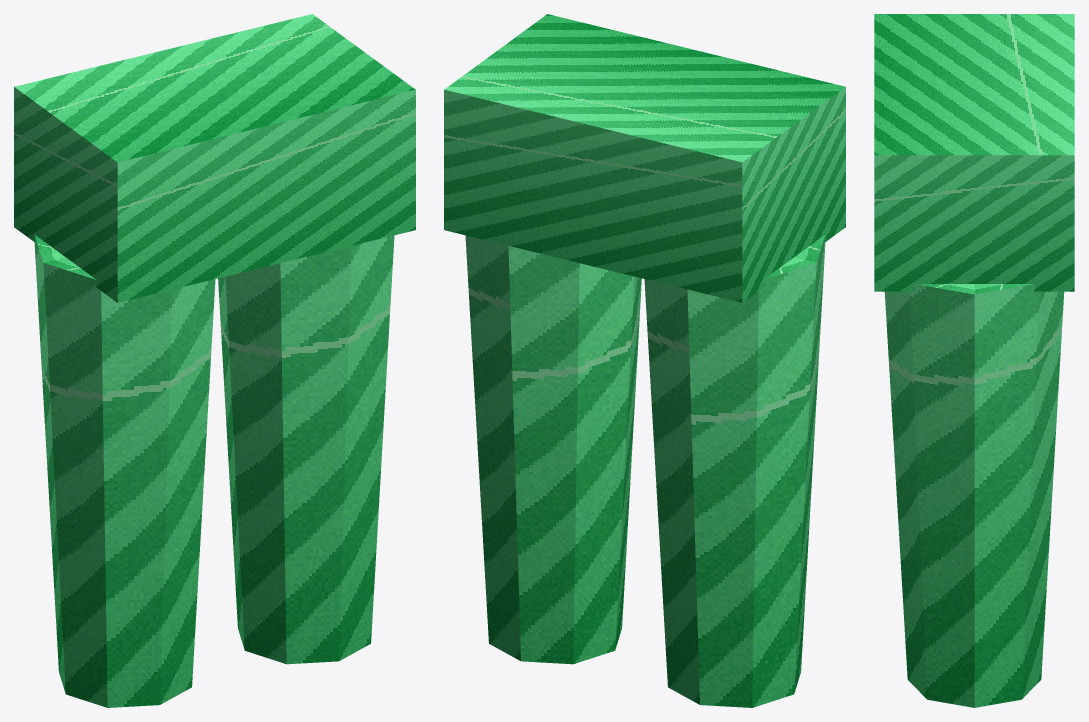
Rendered from calcas_de_esmeralda.glb.
3 renders of one model, left to right at view 1: azimuth 30°, elevation 25°; view 2: azimuth 150°, elevation 25°; view 3: azimuth 270°, elevation 25°, orthographic. The views are drawn at different scales.
Visible parts, largest first — view 1: calcas_de_esmeralda; view 2: calcas_de_esmeralda; view 3: calcas_de_esmeralda.
Boxes of the visible parts, left/top/right/bottom form: calcas_de_esmeralda: left=14, top=14, right=415, bottom=707; calcas_de_esmeralda: left=444, top=14, right=845, bottom=707; calcas_de_esmeralda: left=874, top=14, right=1074, bottom=707.
Bounding box in the file's own units: 0.46 × 0.73 × 0.24.
Materials: 1 (1 with a texture image).
